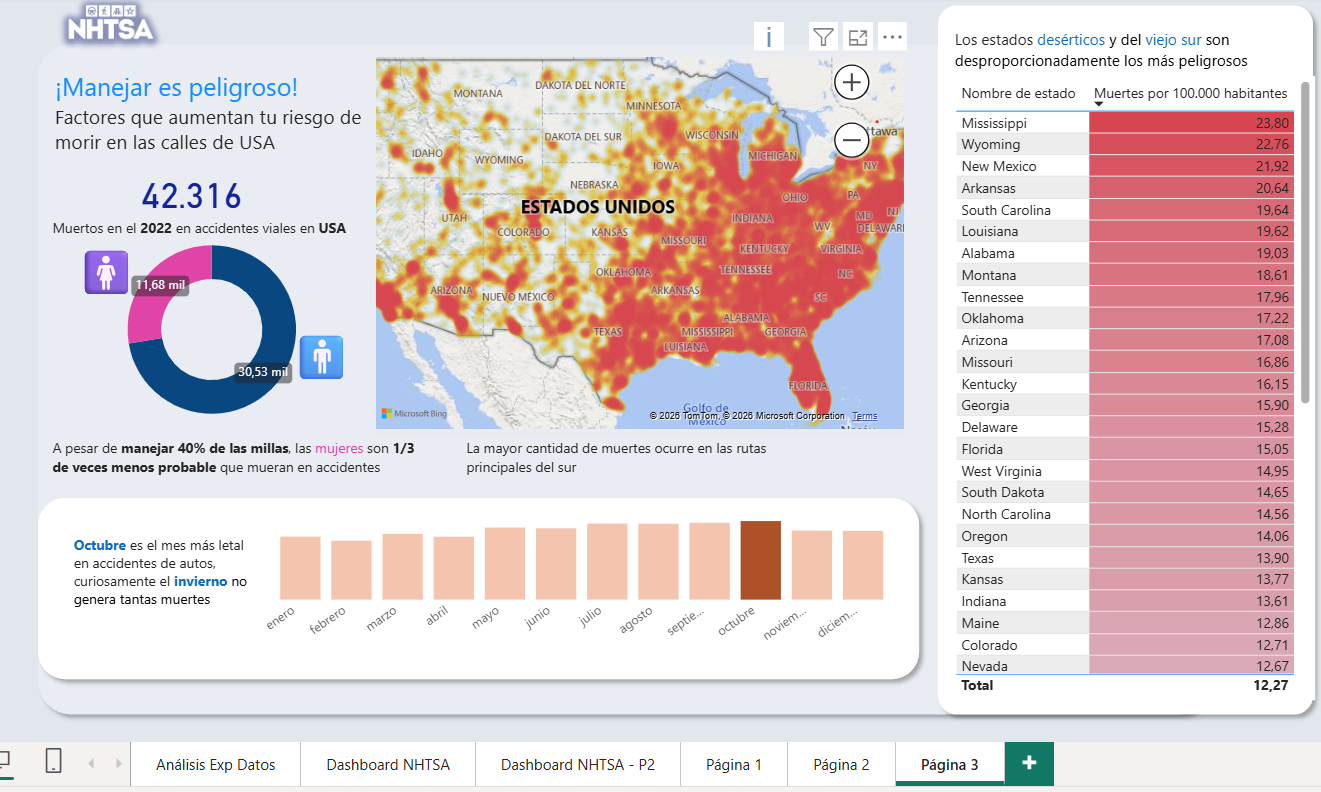

Layout of this report page (visuals, bound fields, positions):
{"tool":"powerbi","page":{"name":"Página 3","canvas":[1280,720],"ordinal":5},"visuals":[{"type":"shape","box":[31,37,1151,665],"z":0},{"type":"image","box":[59,0,103,53],"z":1000},{"type":"shape","box":[900.2,0,380.1,702.6],"z":2000},{"type":"shape","box":[31.4,475.3,868.6,193],"z":3000},{"type":"textbox","box":[51.9,66.4,313.7,95.3],"z":4000},{"type":"cardVisual","fields":{"Data":["Accidentes USA 2022.Decesos Totales"]},"box":[111,161.7,194.2,60.3],"z":5000},{"type":"textbox","box":[50,210,304,31],"z":6000},{"type":"donutChart","fields":{"Category":["Personas Accidentes 2022.Sexo"],"Y":["CountNonNull(Personas Accidentes 2022.Sexo)"]},"box":[50,205,318,234],"z":7000},{"type":"textbox","box":[279.9,312.9,87.8,78.2],"z":8000},{"type":"textbox","box":[72.7,230.5,101.5,91.9],"z":9000},{"type":"textbox","box":[49.5,422.3,368,47.1],"z":10000},{"type":"clusteredColumnChart","fields":{"Category":["Fecha.Date.Variación.Jerarquía de fechas.Mes"],"Y":["Accidentes USA 2022.Decesos Totales"]},"box":[249.7,492.2,632.2,143.6],"z":11000},{"type":"textbox","box":[70,514.6,179.8,100.2],"z":12000},{"type":"tableEx","fields":{"Values":["Población de estados.Nombre de estado","Accidentes USA 2022.Muertes por 100000 habitantes"]},"box":[920.8,76.8,352.7,602.4],"z":13000},{"type":"textbox","box":[920.8,26.1,299.1,100.2],"z":14000},{"type":"map","fields":{"Y":["Accidentes USA 2022.Latitud"],"X":["Accidentes USA 2022.Longitud"]},"box":[362,54,519,368],"z":15000},{"type":"textbox","box":[448.8,422.3,350,55],"z":16000}]}

Visuals, with their boxes on the page's 1280x720 design canvas (x1, y1, x2, y2). These are canvas units, not pixel positions in the 1321x792 screenshot, which may show the page scaled, cropped or inside an application window:
shape: x1=31, y1=37, x2=1182, y2=702
image: x1=59, y1=0, x2=162, y2=53
shape: x1=900, y1=0, x2=1280, y2=703
shape: x1=31, y1=475, x2=900, y2=668
textbox: x1=52, y1=66, x2=366, y2=162
cardVisual - Accidentes USA 2022.Decesos Totales: x1=111, y1=162, x2=305, y2=222
textbox: x1=50, y1=210, x2=354, y2=241
donutChart - Personas Accidentes 2022.Sexo x CountNonNull(Personas Accidentes 2022.Sexo): x1=50, y1=205, x2=368, y2=439
textbox: x1=280, y1=313, x2=368, y2=391
textbox: x1=73, y1=230, x2=174, y2=322
textbox: x1=50, y1=422, x2=418, y2=469
clusteredColumnChart - Fecha.Date.Variación.Jerarquía de fechas.Mes x Accidentes USA 2022.Decesos Totales: x1=250, y1=492, x2=882, y2=636
textbox: x1=70, y1=515, x2=250, y2=615
tableEx - Población de estados.Nombre de estado x Accidentes USA 2022.Muertes por 100000 habitantes: x1=921, y1=77, x2=1274, y2=679
textbox: x1=921, y1=26, x2=1220, y2=126
map - Accidentes USA 2022.Latitud x Accidentes USA 2022.Longitud: x1=362, y1=54, x2=881, y2=422
textbox: x1=449, y1=422, x2=799, y2=477
